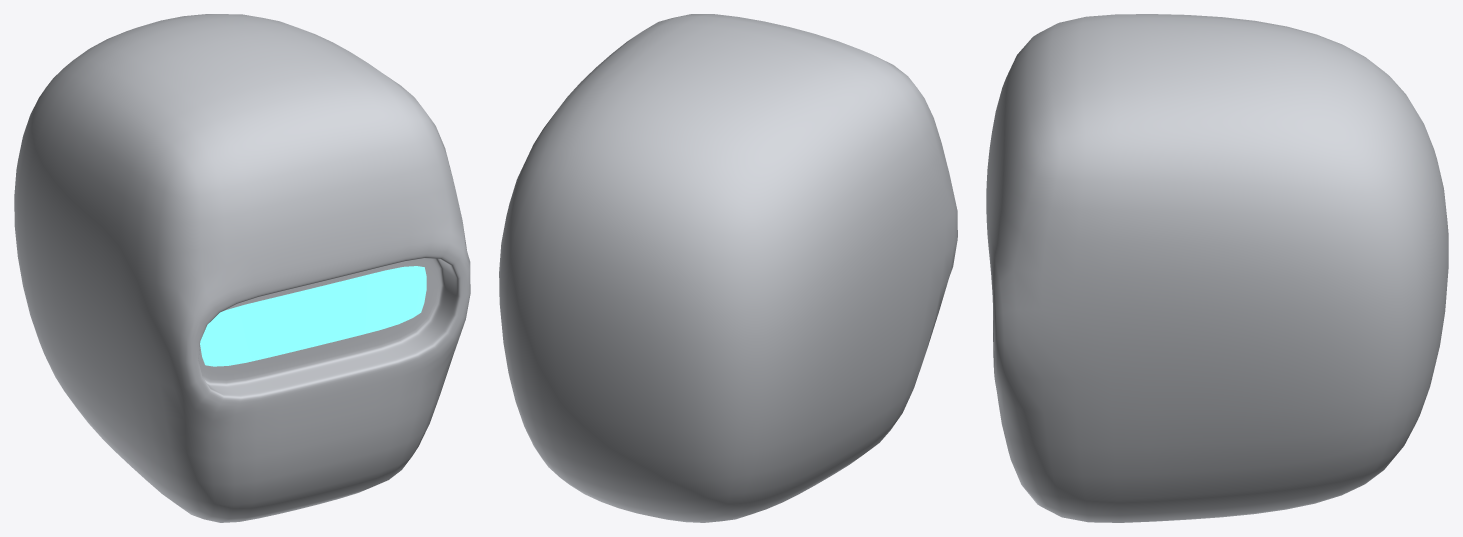
The model's file is cabeza_05.glb.
The picture shows the model from 3 angles, left to right: view 1: azimuth 30°, elevation 25°; view 2: azimuth 150°, elevation 25°; view 3: azimuth 270°, elevation 25°; orthographic projection. The views are drawn at different scales.
Parts seen in each view (by area): view 1: Cabeza_05; view 2: Cabeza_05; view 3: Cabeza_05.
Part boxes in pixels (left/top/right/bottom): Cabeza_05: left=14, top=14, right=470, bottom=522; Cabeza_05: left=499, top=14, right=957, bottom=522; Cabeza_05: left=986, top=14, right=1448, bottom=522.
Bounding box in the file's own units: 0.7524 × 0.9681 × 0.914.
